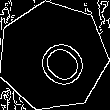O_NW: (20, 23, 86, 89)
